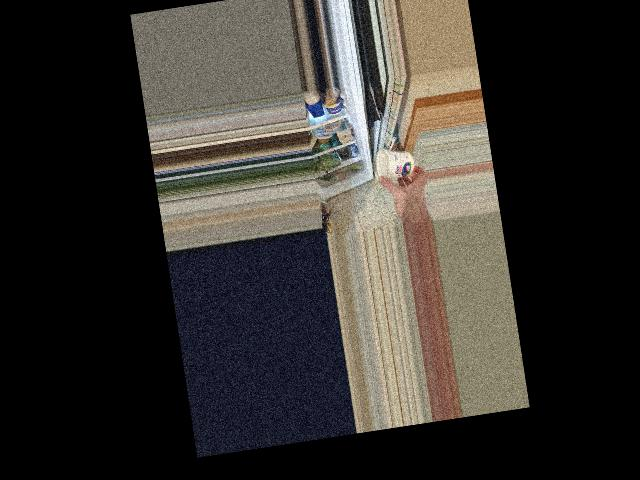cotage: (373, 143, 416, 184)
